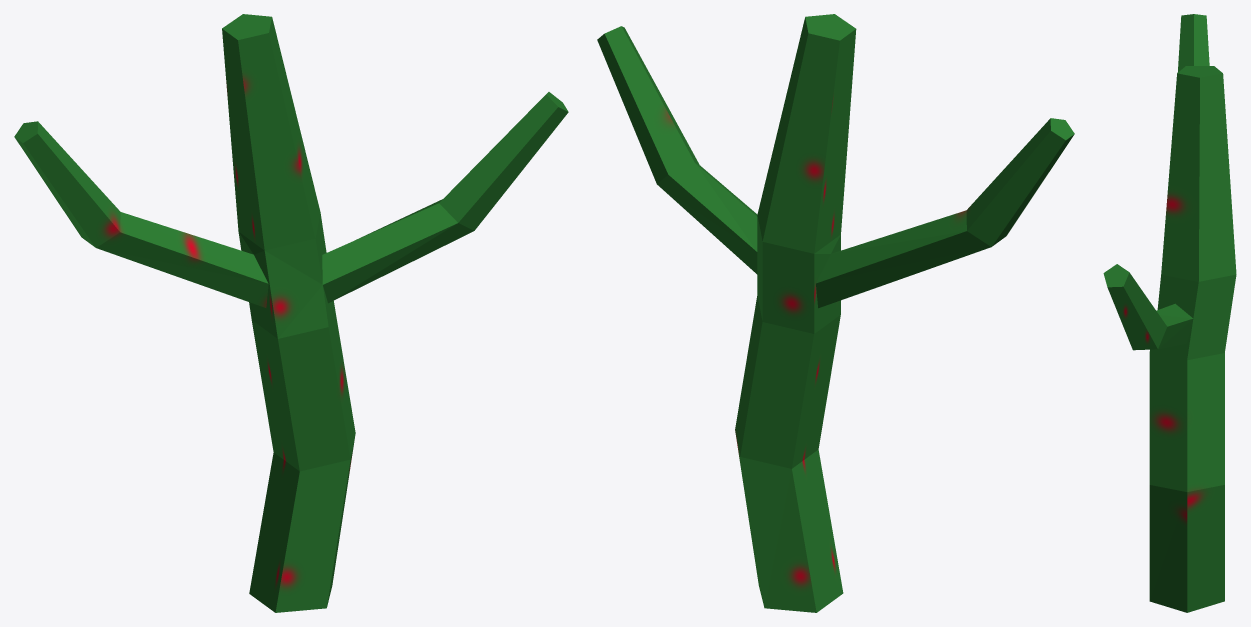
Rendered from Trident Tree.fbx.
3 renders of one model, left to right at view 1: azimuth 30°, elevation 25°; view 2: azimuth 150°, elevation 25°; view 3: azimuth 270°, elevation 25°, orthographic. The views are drawn at different scales.
Parts seen in each view (by area): view 1: Trident Tree; view 2: Trident Tree; view 3: Trident Tree.
Part boxes in pixels (left/top/right/bottom): Trident Tree: left=14, top=14, right=568, bottom=612; Trident Tree: left=597, top=14, right=1074, bottom=612; Trident Tree: left=1103, top=14, right=1236, bottom=612.
Bounding box in the file's own units: 91.38 × 99.89 × 23.51.
